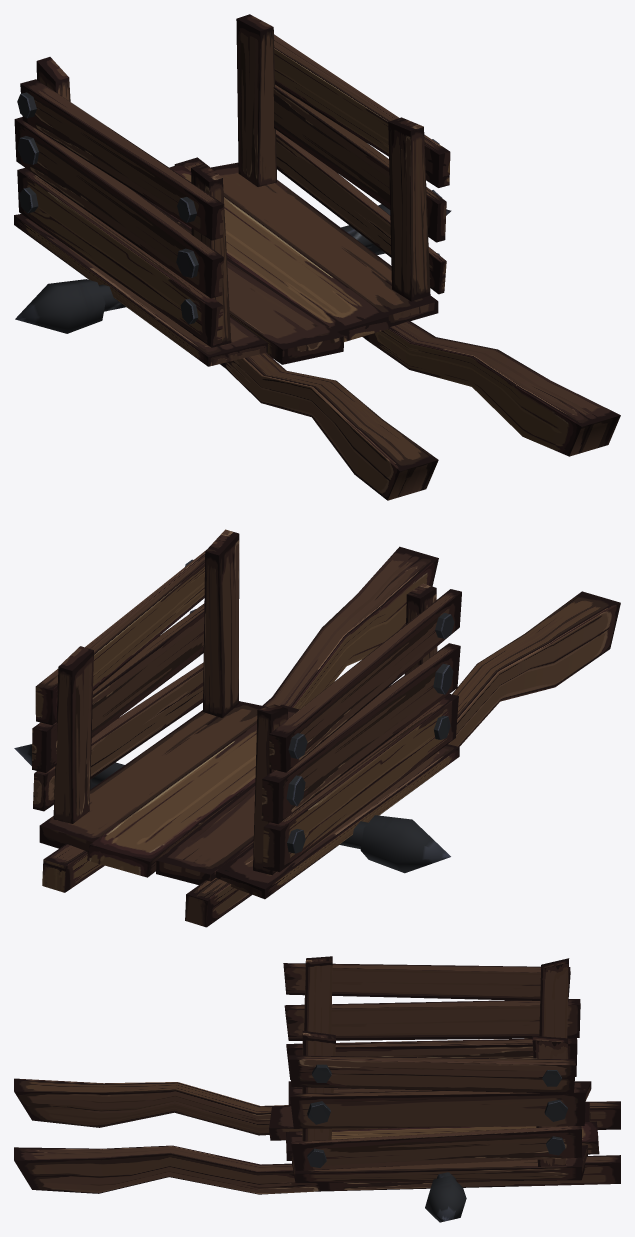
Rendered from SM_PROP_cart_dungeon_01.fbx.
The picture shows the model from 3 angles, top to bottom: view 1: azimuth 30°, elevation 25°; view 2: azimuth 150°, elevation 25°; view 3: azimuth 270°, elevation 25°; orthographic projection. The views are drawn at different scales.
Parts seen in each view (by area): view 1: SM_PROP_cart_dungeon_01; view 2: SM_PROP_cart_dungeon_01; view 3: SM_PROP_cart_dungeon_01.
Part boxes in pixels (box(x1,y1,x2,y2)): SM_PROP_cart_dungeon_01: box(14, 14, 620, 500); SM_PROP_cart_dungeon_01: box(14, 529, 620, 927); SM_PROP_cart_dungeon_01: box(14, 956, 620, 1222).
Size of what is drawn, in the model's own units: 335 by 157 by 518.
